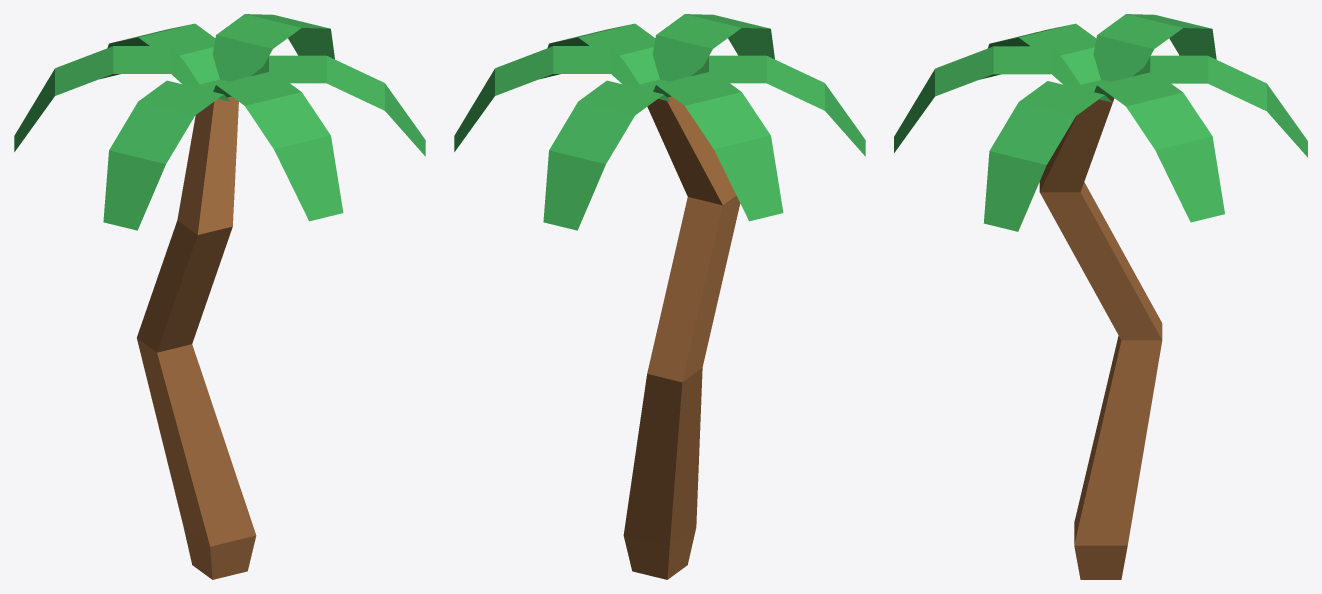
Rendered from palm-bend.glb.
The picture shows the model from 3 angles, left to right: view 1: azimuth 30°, elevation 25°; view 2: azimuth 150°, elevation 25°; view 3: azimuth 270°, elevation 25°; orthographic projection.
Parts seen in each view (by area): view 1: tree_palmBend; view 2: tree_palmBend; view 3: tree_palmBend.
Part boxes in pixels (bbox=[...]): tree_palmBend: bbox=[14, 14, 425, 579]; tree_palmBend: bbox=[454, 14, 865, 579]; tree_palmBend: bbox=[894, 14, 1307, 579].
Bounding box in the file's own units: 3.74 × 5.52 × 4.05.
